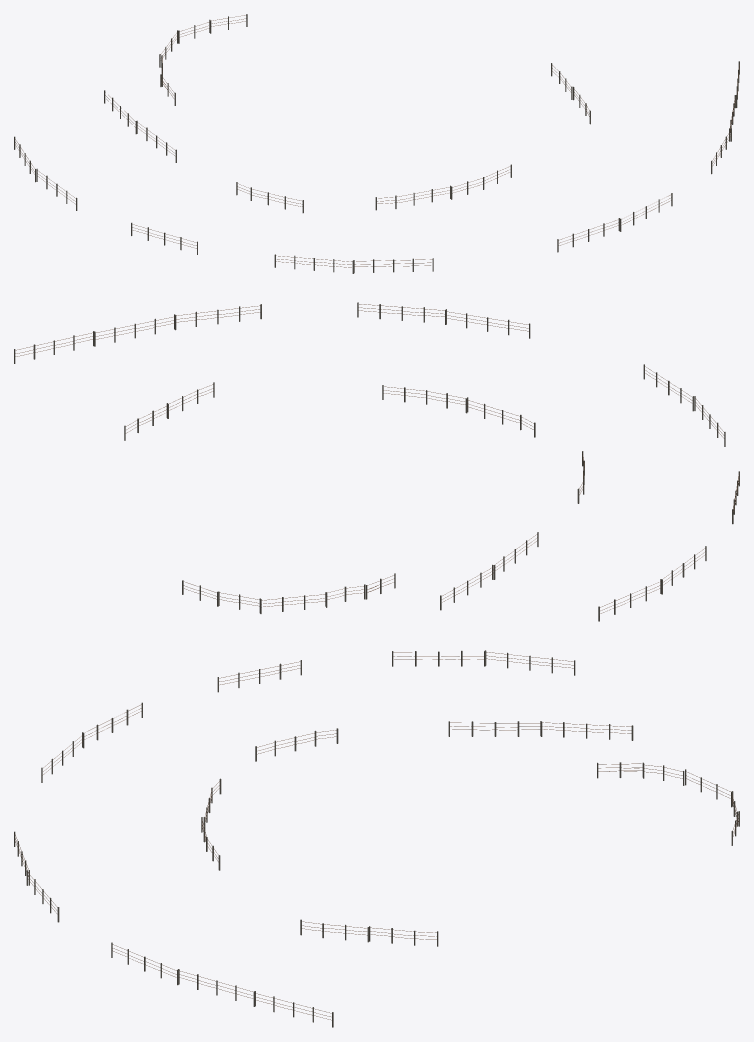
File: objects_un_t07woodfence01.gltf
The picture shows the model from 3 angles, top to bottom: view 1: azimuth 30°, elevation 25°; view 2: azimuth 150°, elevation 25°; view 3: azimuth 270°, elevation 25°; orthographic projection. The views are drawn at different scales.
Visible parts, largest first — view 1: um_objects_un_t07woodfence01_model_lod0Shape:objects_un_wood; view 2: um_objects_un_t07woodfence01_model_lod0Shape:objects_un_wood; view 3: um_objects_un_t07woodfence01_model_lod0Shape:objects_un_wood.
Boxes of the visible parts, x1,y1,x2,y2 form: um_objects_un_t07woodfence01_model_lod0Shape:objects_un_wood: (14, 14, 739, 273); um_objects_un_t07woodfence01_model_lod0Shape:objects_un_wood: (14, 302, 739, 621); um_objects_un_t07woodfence01_model_lod0Shape:objects_un_wood: (14, 650, 739, 1027).
Size of what is drawn, in the model's own units: 66.97 by 1.83 by 56.7.
Materials: 1 (1 with a texture image).
